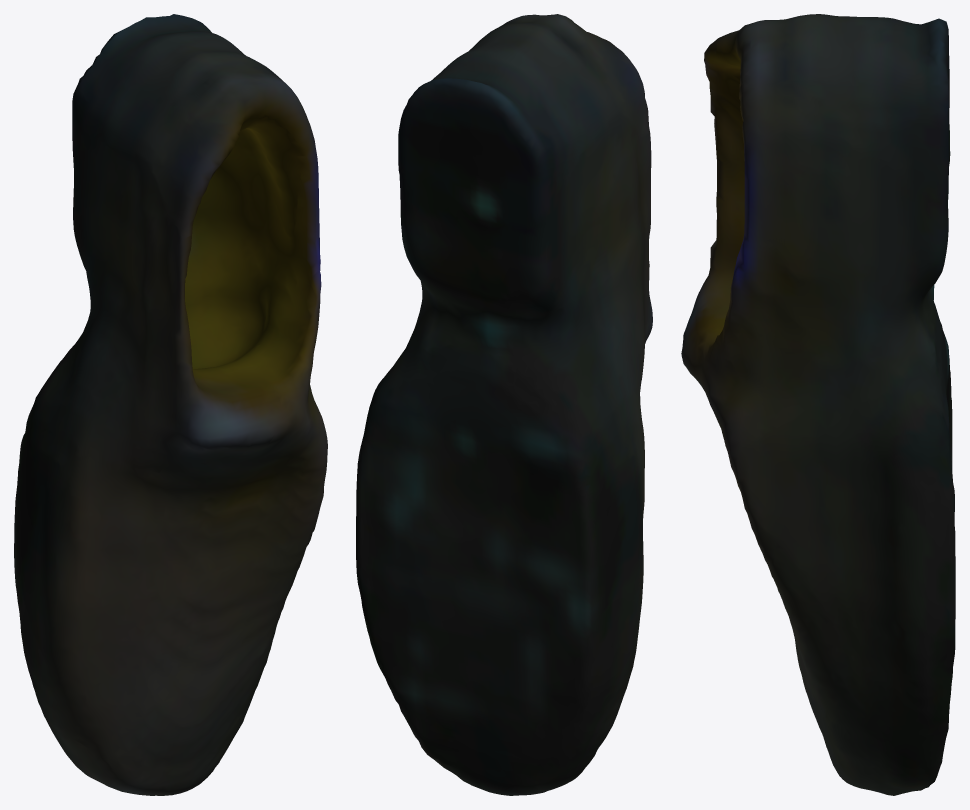
File: leather.glb
3 renders of one model, left to right at view 1: azimuth 30°, elevation 25°; view 2: azimuth 150°, elevation 25°; view 3: azimuth 270°, elevation 25°, orthographic. The views are drawn at different scales.
Size of the model in its own units: 0.3624 by 0.9998 by 0.3195.
